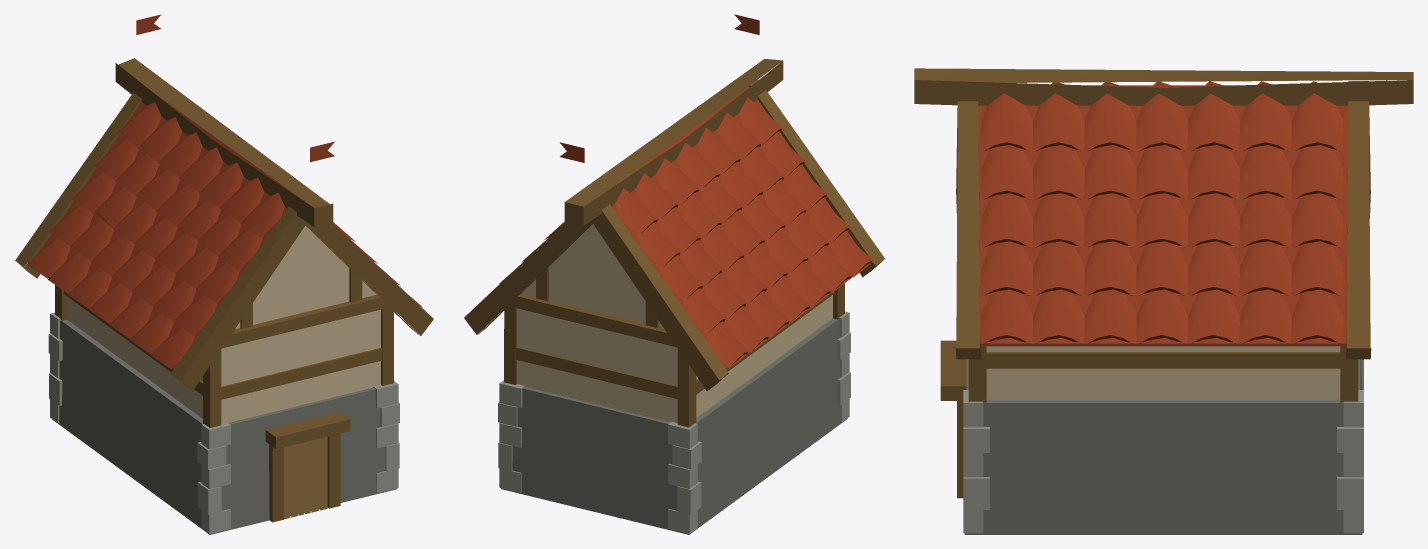
File: house-0.glb
3 views of the same model, side by side, from view 1: azimuth 30°, elevation 25°; view 2: azimuth 150°, elevation 25°; view 3: azimuth 270°, elevation 25° (orthographic). The views are drawn at different scales.
Parts seen in each view (by area): view 1: house-0; view 2: house-0; view 3: house-0.
Boxes of the visible parts, x1,y1,x2,y2 form: house-0: [15, 14, 433, 534]; house-0: [464, 14, 884, 534]; house-0: [914, 68, 1413, 534].
Bounding box in the file's own units: 1.81 × 2.45 × 2.39.
